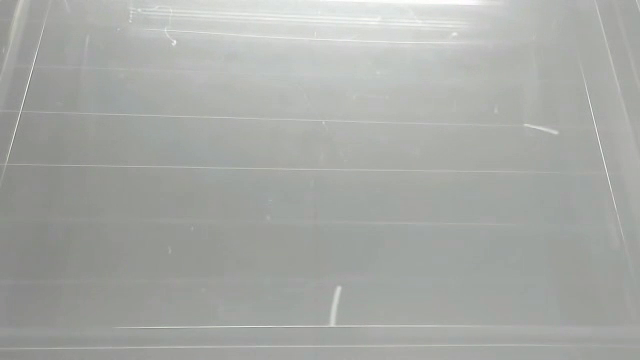alpha: (325, 283, 347, 330), (519, 120, 561, 138)
